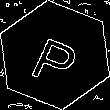P_NE: (26, 25, 84, 85)
